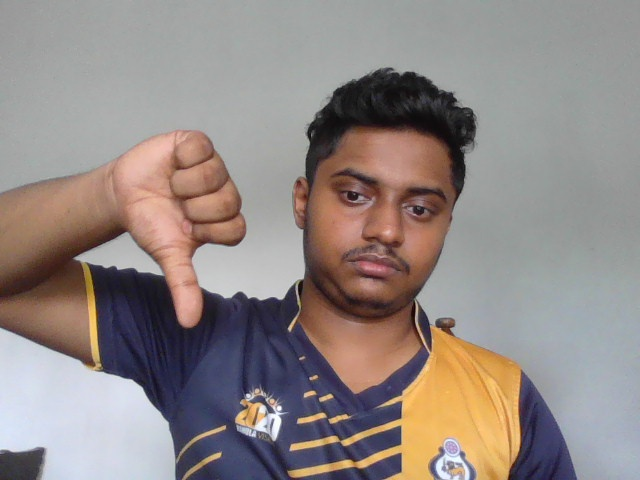Disagree: (114, 126, 250, 330)
